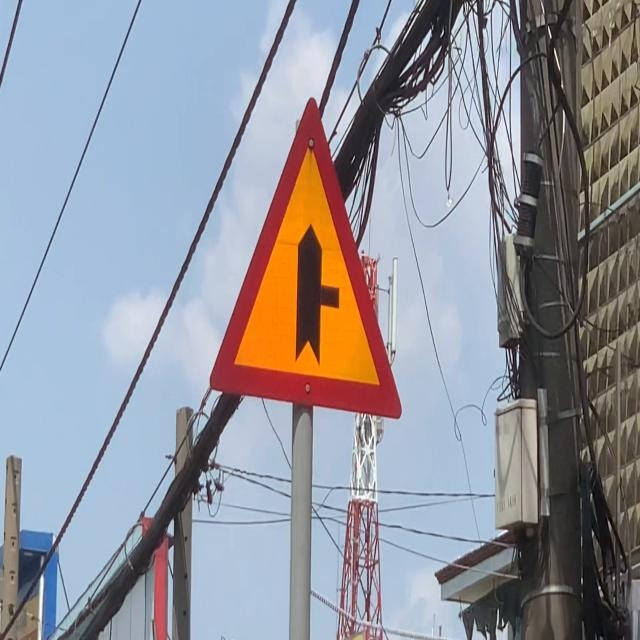bien_nguy_hiem: (201, 84, 408, 432)
